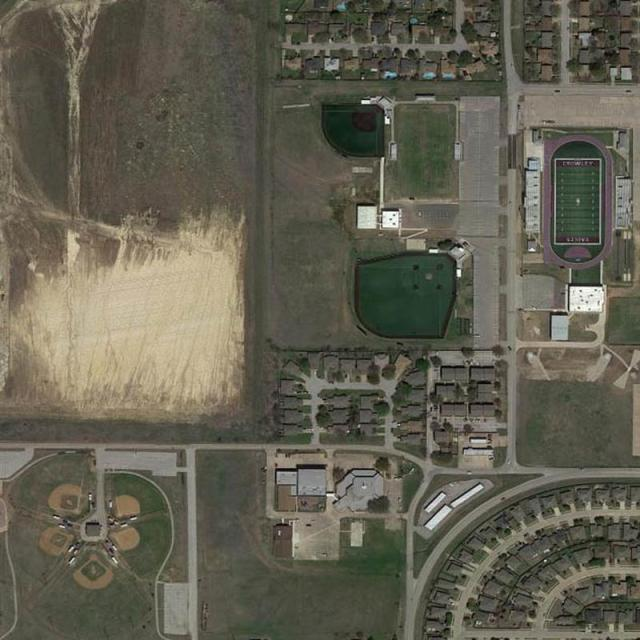vehicle: (68, 557, 76, 564), (111, 557, 118, 564), (68, 545, 74, 553), (108, 502, 114, 509), (112, 545, 118, 551), (130, 517, 137, 522), (53, 516, 61, 520), (58, 525, 66, 529), (88, 494, 92, 501)
